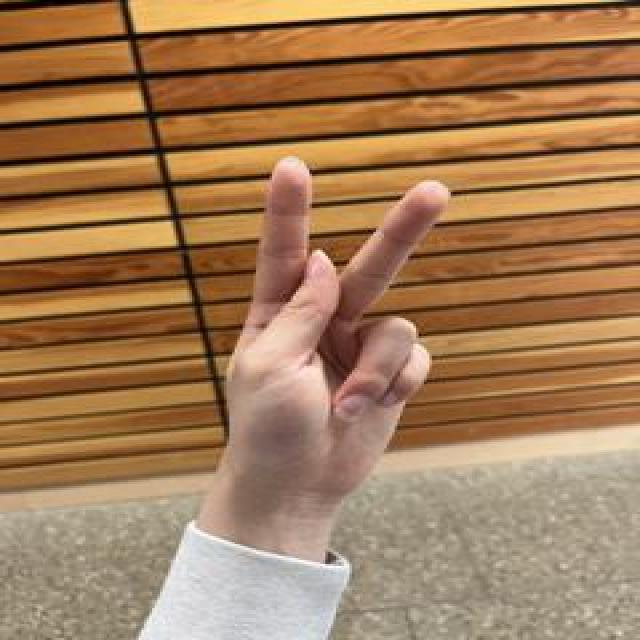K: (216, 152, 453, 502)
